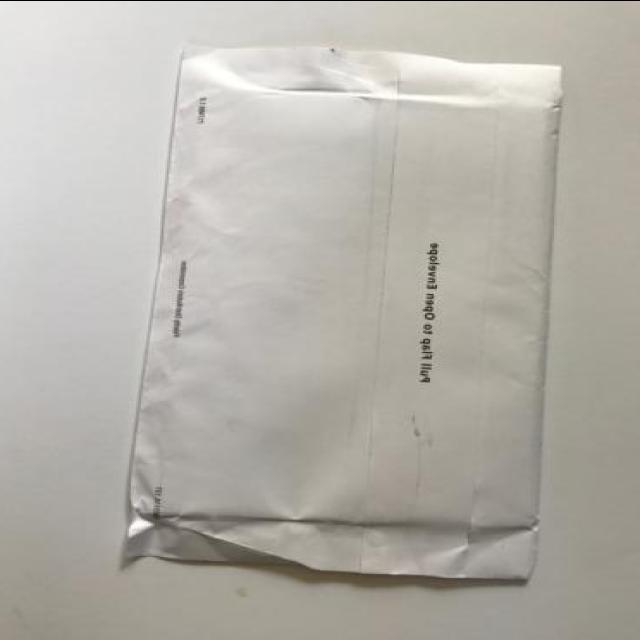kertas: (120, 40, 570, 585)
